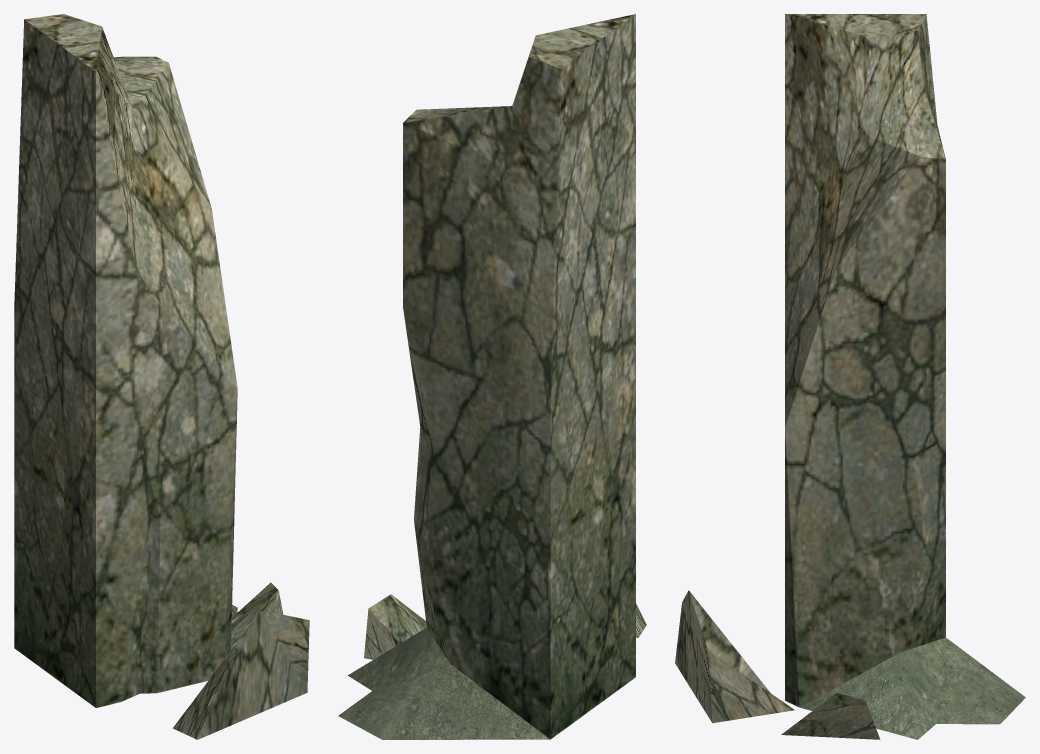
File: thm_nboo_gungan_pillar_ruined_s01_l1.fbx
3 views of the same model, side by side, from view 1: azimuth 30°, elevation 25°; view 2: azimuth 150°, elevation 25°; view 3: azimuth 270°, elevation 25° (orthographic). The views are drawn at different scales.
Visible parts, largest first — view 1: mesh_node; view 2: mesh_node; view 3: mesh_node.
Part boxes in pixels (<box>): mesh_node: <box>14,14,309,739</box>; mesh_node: <box>338,14,646,739</box>; mesh_node: <box>675,14,1025,739</box>.
Size of the model in its own units: 1.52 by 4.3 by 2.18.
